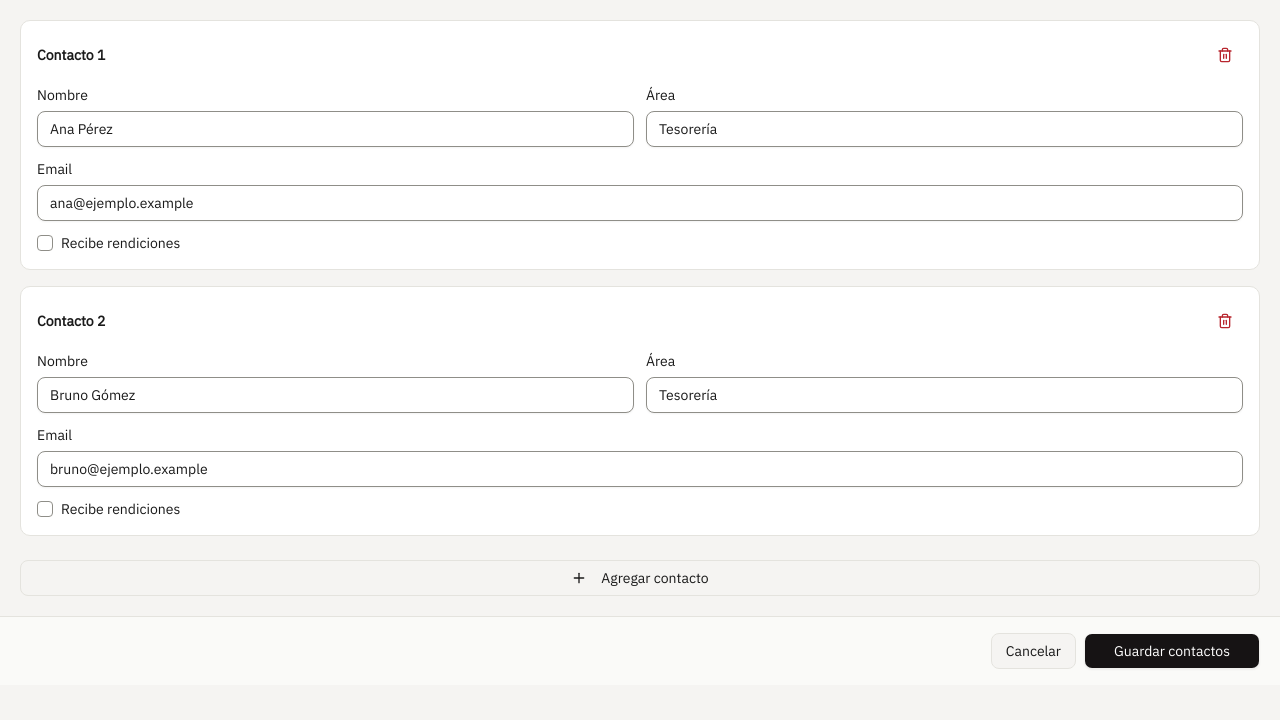
Test: ContactosForm: errores del servidor › muestra el mensaje general con role=alert y conserva todos los valores
Type " Norte" into the 2nd field labelled "Área" at (944, 395), box [646,377,1243,413]
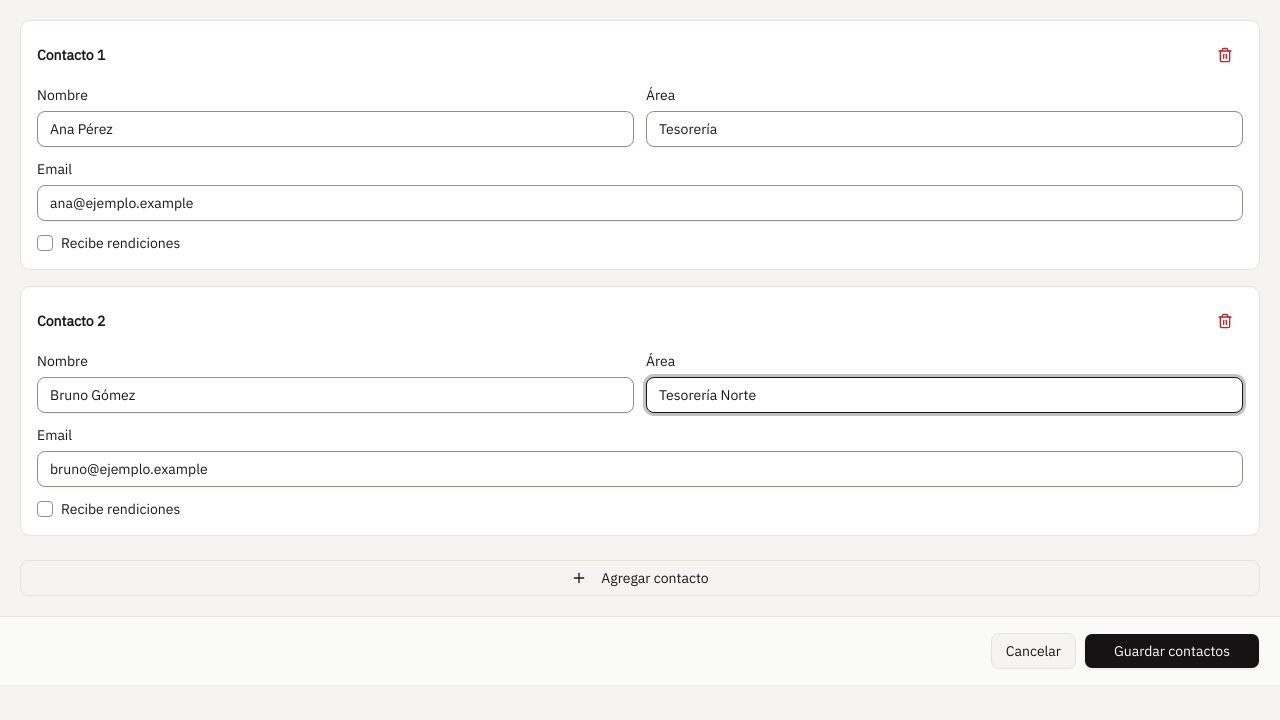
Click the button "Guardar contactos" at (1172, 651), box [1084,633,1260,669]
(page scrolled)
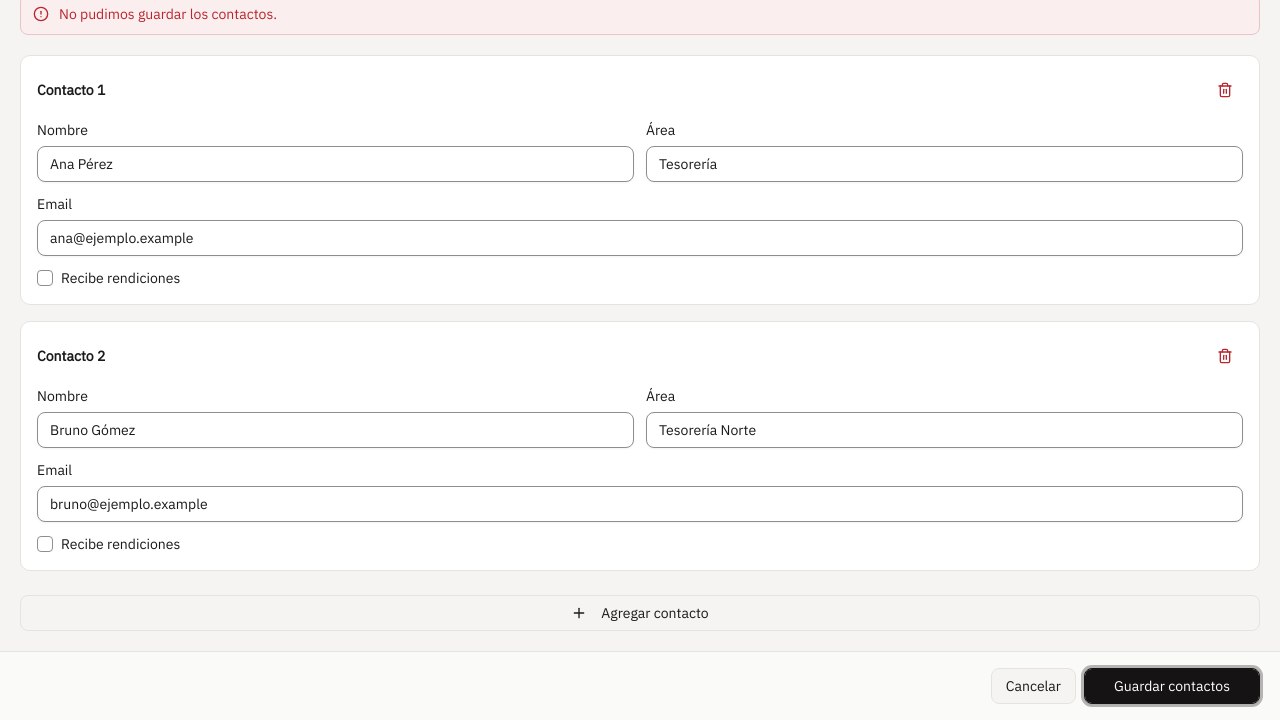
Expected: the button "Guardar contactos" is enabled, [1084,668,1260,704]
Expected: the 2nd field labelled "Área" holds "Tesorería Norte", [646,412,1243,448]
Expected: the message reads "No pudimos guardar los contactos.", [59,5,277,23]
